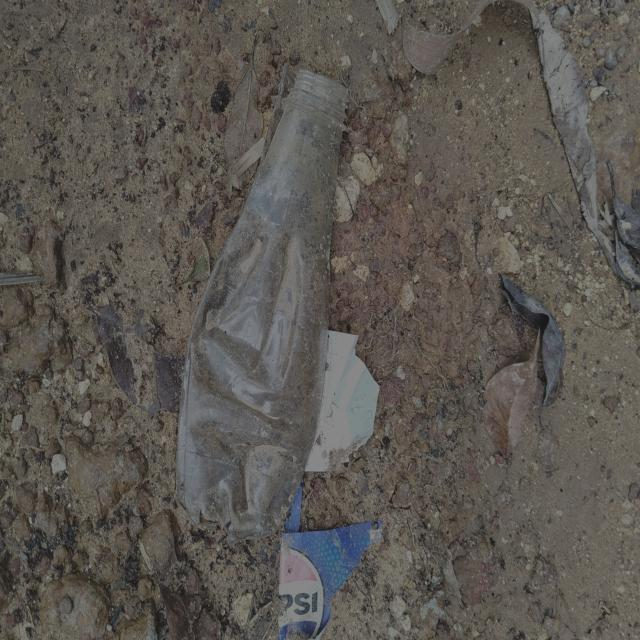plastic: (166, 62, 359, 544)
